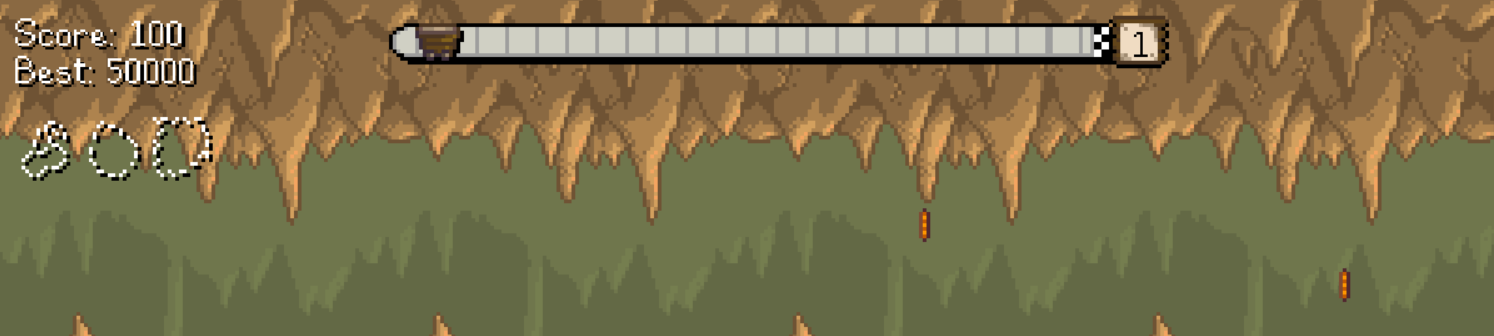score: (128, 12, 189, 48)
